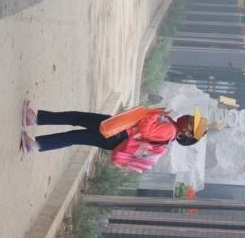person: (19, 89, 207, 173)
